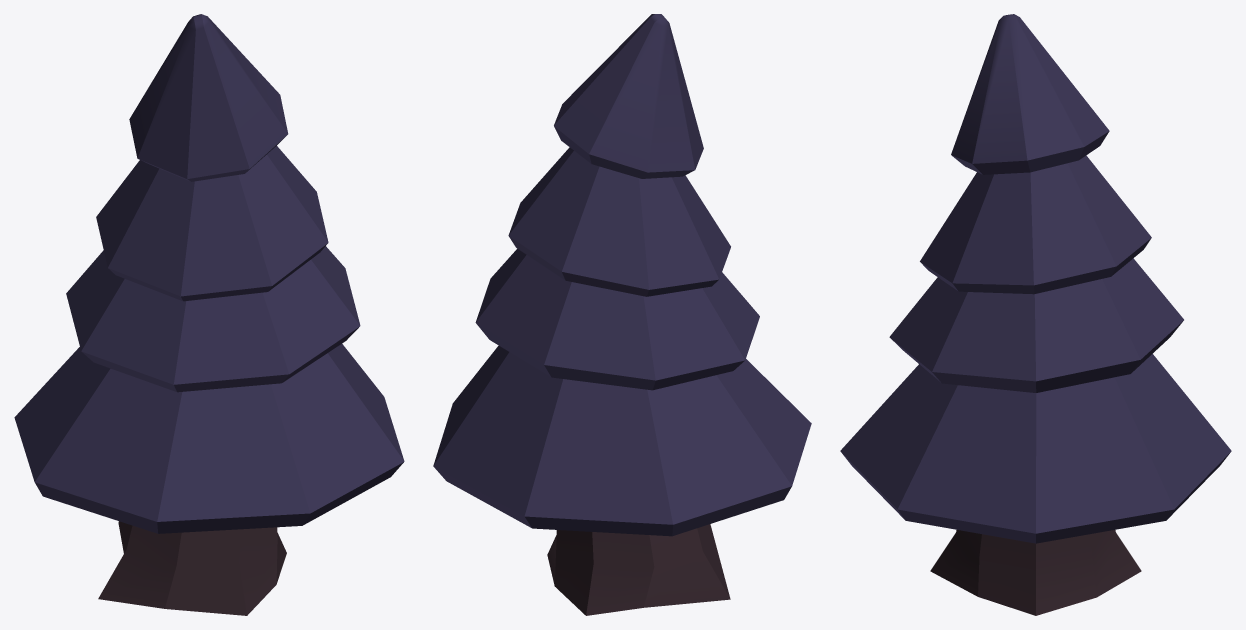
Rendered from Arbol5.fbx.
3 views of the same model, side by side, from view 1: azimuth 30°, elevation 25°; view 2: azimuth 150°, elevation 25°; view 3: azimuth 270°, elevation 25° (orthographic). The views are drawn at different scales.
Parts seen in each view (by area): view 1: pCylinder9; view 2: pCylinder9; view 3: pCylinder9.
Boxes of the visible parts, box(x1,y1,x2,y2) form: pCylinder9: box(14, 14, 404, 615); pCylinder9: box(433, 14, 811, 615); pCylinder9: box(840, 14, 1231, 615).
Size of the model in its own units: 2.89 by 4.51 by 2.89.
